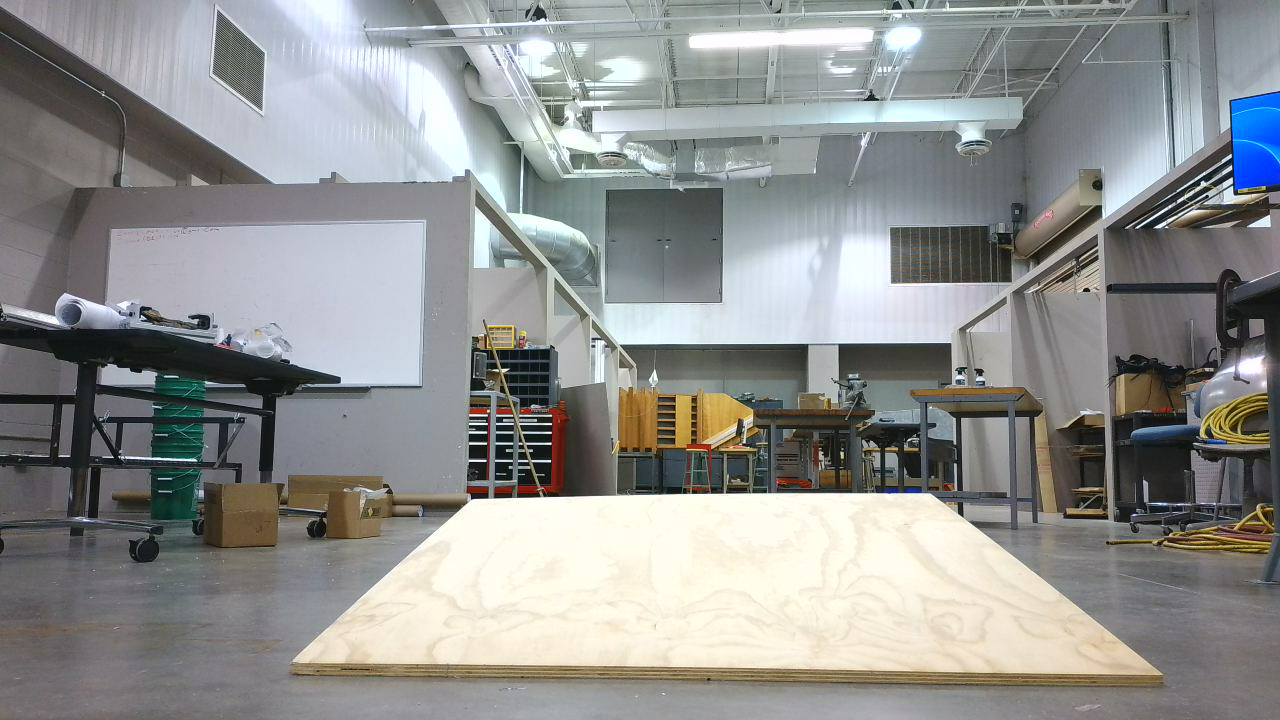ramp: (290, 492, 1175, 693)
